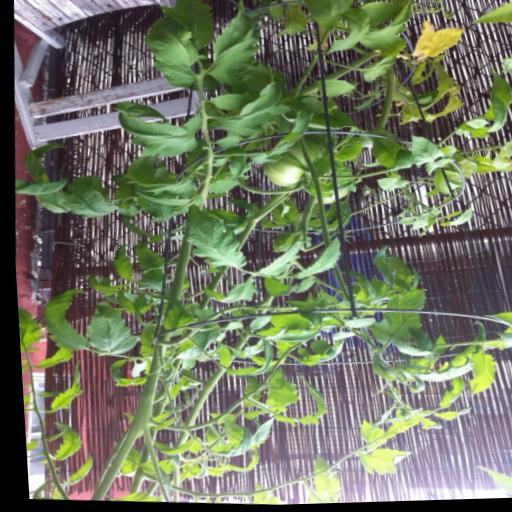Healthy: (176, 201, 252, 270), (217, 77, 293, 141), (206, 0, 264, 78), (143, 14, 201, 90), (116, 114, 204, 162), (365, 287, 425, 349), (79, 302, 136, 356), (281, 233, 340, 284)
